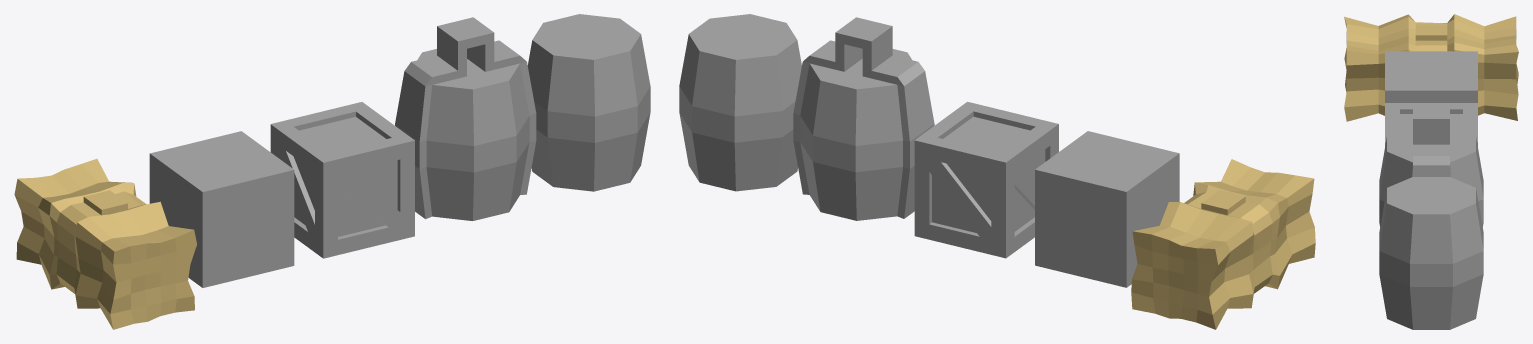
File: PropsBasic_6.20.25.1233.fbx
3 views of the same model, side by side, from view 1: azimuth 30°, elevation 25°; view 2: azimuth 150°, elevation 25°; view 3: azimuth 270°, elevation 25° (orthographic). The views are drawn at different scales.
Parts seen in each view (by area): view 1: BarrelWithRing, Haybale, Barrel, Crate, Box; view 2: BarrelWithRing, Haybale, Barrel, Crate, Box; view 3: Barrel, Haybale, BarrelWithRing, Box, Crate.
Boxes of the visible parts, <box> form: BarrelWithRing: <box>395,17,536,220</box>; Haybale: <box>14,159,196,329</box>; Barrel: <box>527,14,650,191</box>; Crate: <box>270,102,414,258</box>; Box: <box>149,131,294,287</box>; BarrelWithRing: <box>793,17,934,220</box>; Haybale: <box>1131,159,1315,329</box>; Barrel: <box>679,14,801,191</box>; Crate: <box>914,101,1058,258</box>; Box: <box>1035,131,1179,287</box>; Barrel: <box>1379,177,1483,329</box>; Haybale: <box>1344,14,1518,121</box>; BarrelWithRing: <box>1379,103,1483,226</box>; Box: <box>1385,51,1477,102</box>; Crate: <box>1385,103,1477,146</box>.
Bounding box in the file's own units: 413 × 118 × 124.
